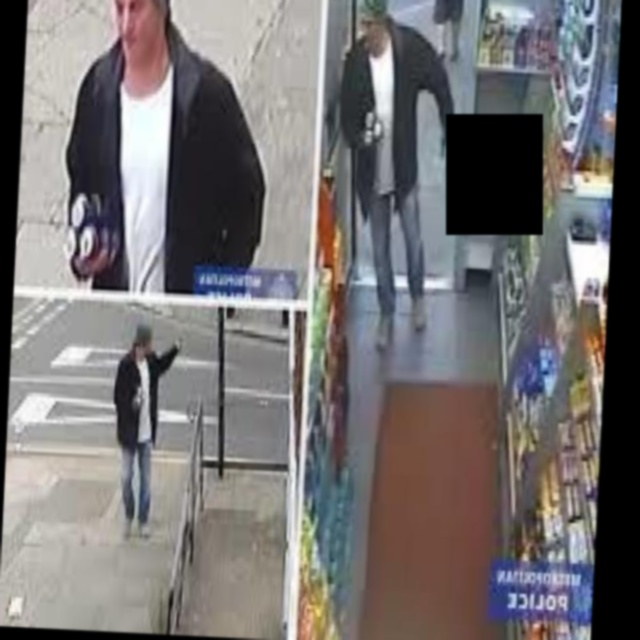gun: (436, 112, 458, 164)
